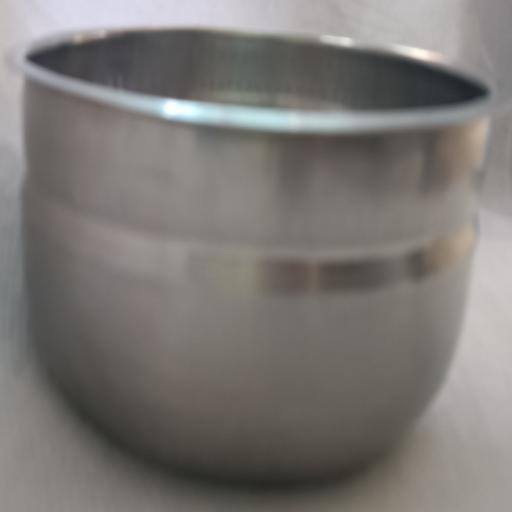vessel: (18, 28, 496, 481)
